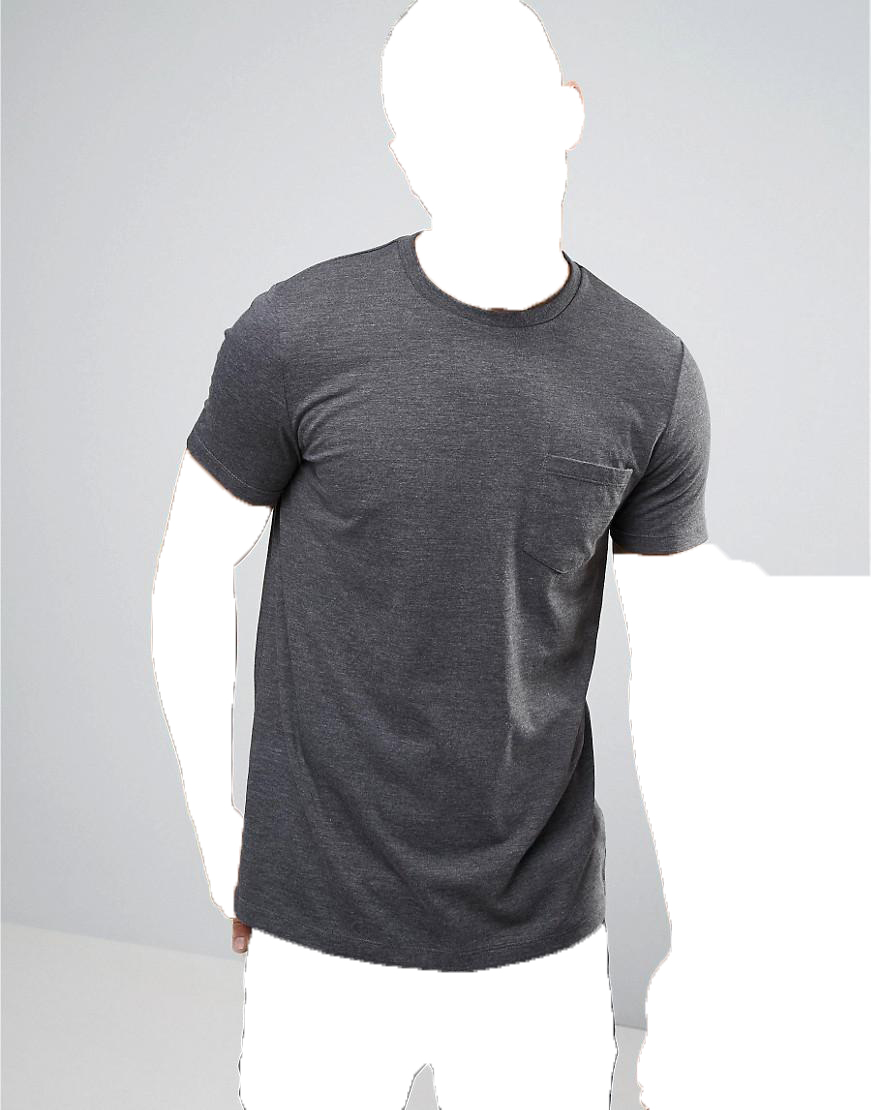teeshirt: (179, 232, 732, 979)
